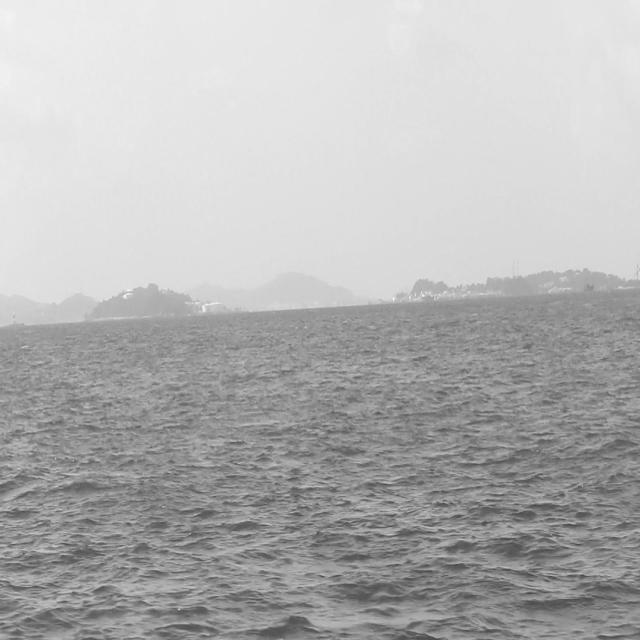buoy: (5, 312, 28, 332)
